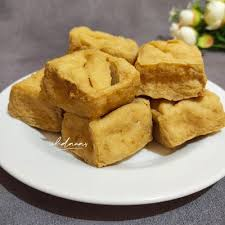Tahu goreng: (39, 46, 141, 114), (61, 110, 153, 168), (136, 39, 212, 101), (152, 92, 225, 151), (9, 69, 55, 132), (67, 25, 140, 56)
